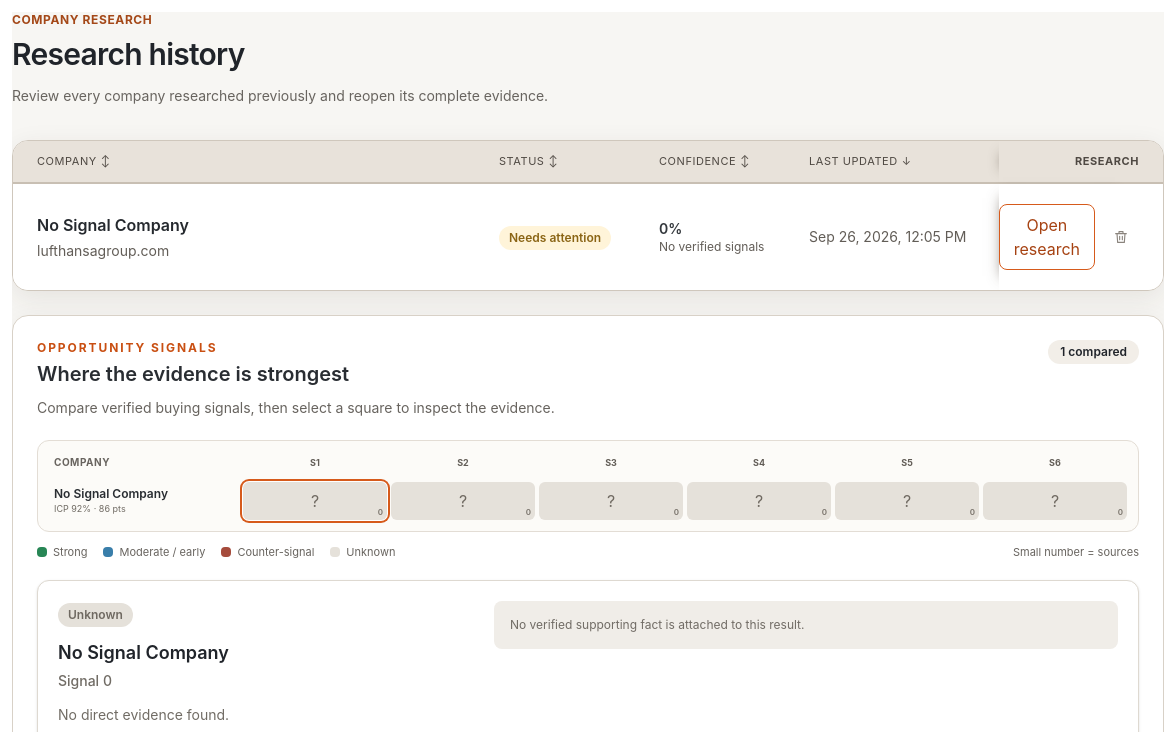
Test: does not turn completed checks without evidence into research confidence
Expected: the text "Needs attention" is shown, [499,226,611,250]
Expected: the text "0%" is shown, [659,220,682,236]
What coordinates should you click on to do the following:
click the button with aria-label "Open research for No Signal Company"
I would click on:
 (1047, 236)
Its box is [999,204,1095,270].
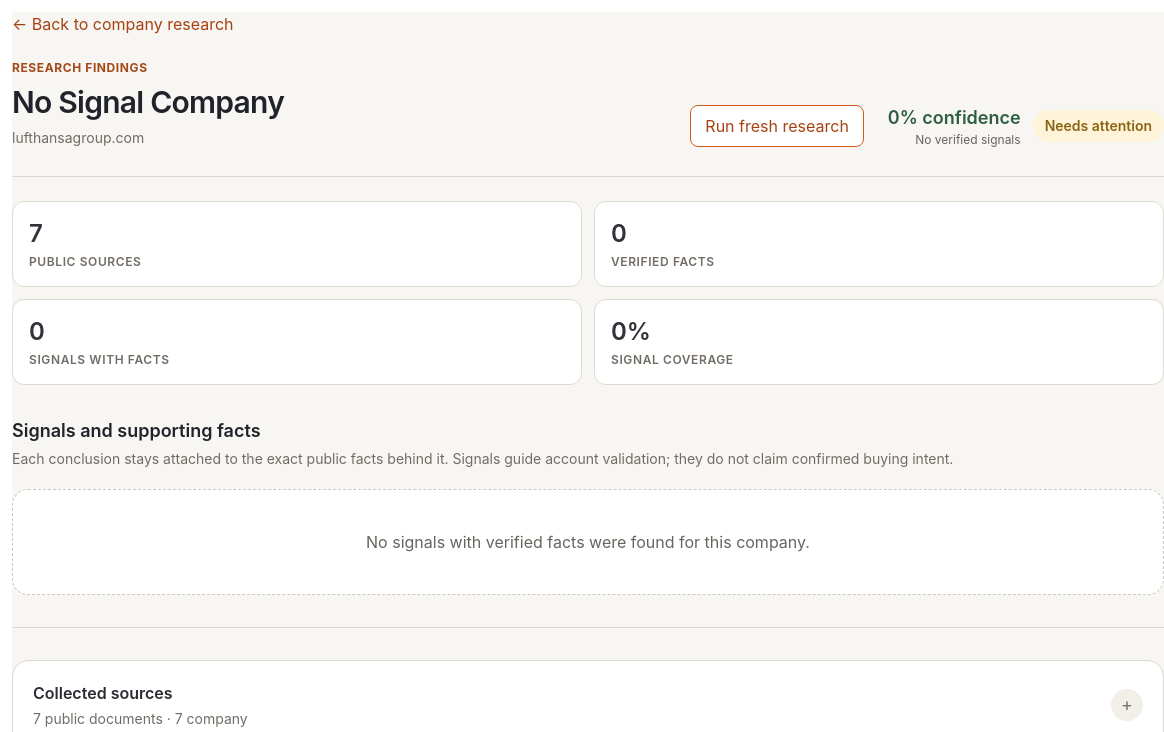
Result: the text "0% confidence" is shown at [888,104,1021,132]
Result: the text "No signals with verified facts were found for this company." is shown at [12,489,1163,595]
